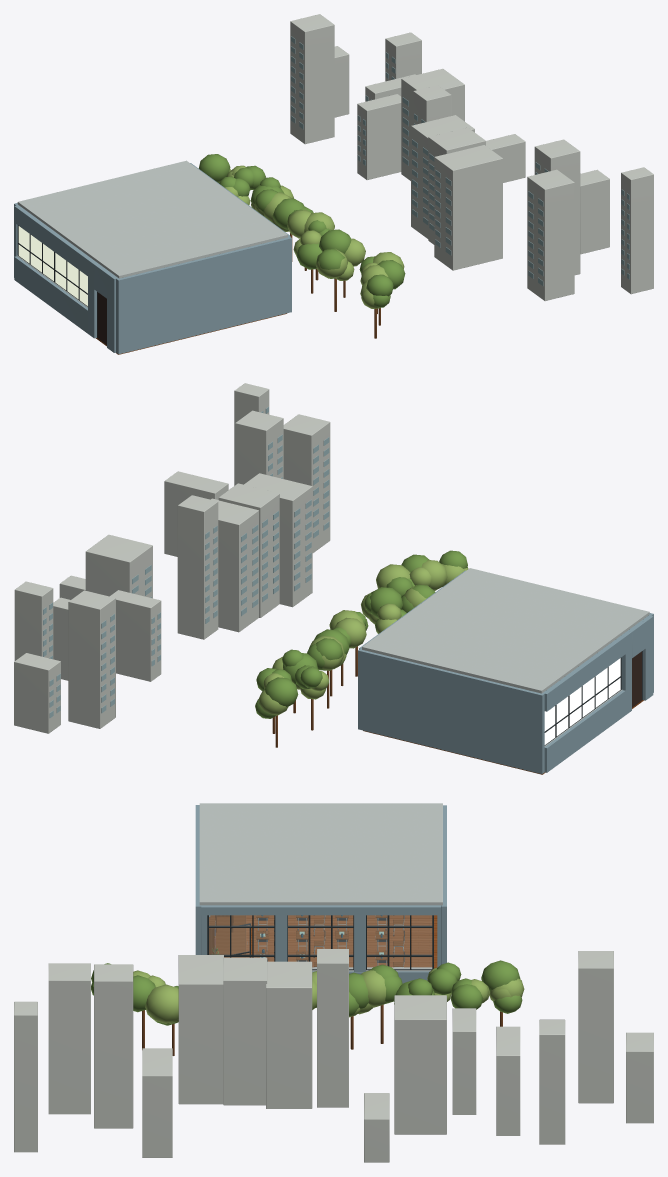
File: Xingtong_Classroom_Textured.glb
3 renders of one model, top to bottom at view 1: azimuth 30°, elevation 25°; view 2: azimuth 150°, elevation 25°; view 3: azimuth 270°, elevation 25°, orthographic. The views are drawn at different scales.
Visible parts, largest first — view 1: Ceiling plaster slab, Front pale blue plaster wall, INFERRED exterior city block 04, INFERRED exterior city block 01, INFERRED exterior city block 13, INFERRED exterior city block 00, INFERRED exterior city block 10, INFERRED exterior city block 03, INFERRED exterior city block 09, INFERRED exterior city block 06, INFERRED exterior city block 02, Right window sill wall (+13 smaller); view 2: Ceiling plaster slab, INFERRED rear extent plain wall, INFERRED exterior city block 13, INFERRED exterior city block 07, INFERRED exterior city block 06, INFERRED exterior city block 04, INFERRED exterior city block 01, INFERRED exterior city block 10, INFERRED exterior city block 09, INFERRED exterior city block 14, INFERRED exterior city block 02, INFERRED exterior city block 05 (+10 smaller); view 3: Ceiling plaster slab, INFERRED exterior city block 09, INFERRED exterior city block 06, INFERRED exterior city block 04, INFERRED exterior city block 02, INFERRED exterior city block 01, INFERRED exterior city block 05, INFERRED exterior city block 13, Continuous wood plank floor, INFERRED exterior city block 07, INFERRED exterior city block 00, INFERRED exterior city block 03 (+24 smaller).
Part boxes in pixels (box(x1,y1,x2,y2)): Ceiling plaster slab: box(17, 160, 287, 278); Front pale blue plaster wall: box(116, 236, 291, 354); INFERRED exterior city block 04: box(434, 145, 502, 270); INFERRED exterior city block 01: box(527, 169, 574, 300); INFERRED exterior city block 13: box(290, 14, 334, 144); INFERRED exterior city block 00: box(621, 167, 653, 294); INFERRED exterior city block 10: box(357, 94, 401, 179); INFERRED exterior city block 03: box(580, 169, 609, 254); INFERRED exterior city block 09: box(401, 68, 464, 180); INFERRED exterior city block 06: box(411, 115, 474, 238); INFERRED exterior city block 02: box(534, 139, 580, 275); Right window sill wall: box(14, 256, 87, 333); Ceiling plaster slab: box(362, 568, 649, 693); INFERRED rear extent plain wall: box(358, 648, 544, 773); INFERRED exterior city block 13: box(68, 590, 115, 728); INFERRED exterior city block 07: box(177, 495, 218, 639); INFERRED exterior city block 06: box(211, 498, 258, 632); INFERRED exterior city block 04: box(244, 473, 312, 607); INFERRED exterior city block 01: box(283, 414, 330, 552); INFERRED exterior city block 10: box(109, 590, 161, 681); INFERRED exterior city block 09: box(85, 534, 152, 598); INFERRED exterior city block 14: box(14, 653, 60, 733); INFERRED exterior city block 02: box(235, 410, 283, 484); INFERRED exterior city block 05: box(218, 483, 279, 617); Ceiling plaster slab: box(199, 803, 442, 905); INFERRED exterior city block 09: box(394, 995, 446, 1134); INFERRED exterior city block 06: box(266, 961, 312, 1108); INFERRED exterior city block 04: box(178, 955, 223, 1104); INFERRED exterior city block 02: box(94, 964, 133, 1128); INFERRED exterior city block 01: box(48, 963, 90, 1114); INFERRED exterior city block 05: box(223, 957, 267, 1105); INFERRED exterior city block 13: box(578, 951, 613, 1103); Continuous wood plank floor: box(246, 915, 437, 968); INFERRED exterior city block 07: box(317, 949, 348, 1107); INFERRED exterior city block 00: box(14, 1001, 37, 1152); INFERRED exterior city block 03: box(142, 1048, 172, 1157).
Bounding box in the file's own units: 22.71 × 6.57 × 21.89.
Materials: 41 (6 with a texture image).
